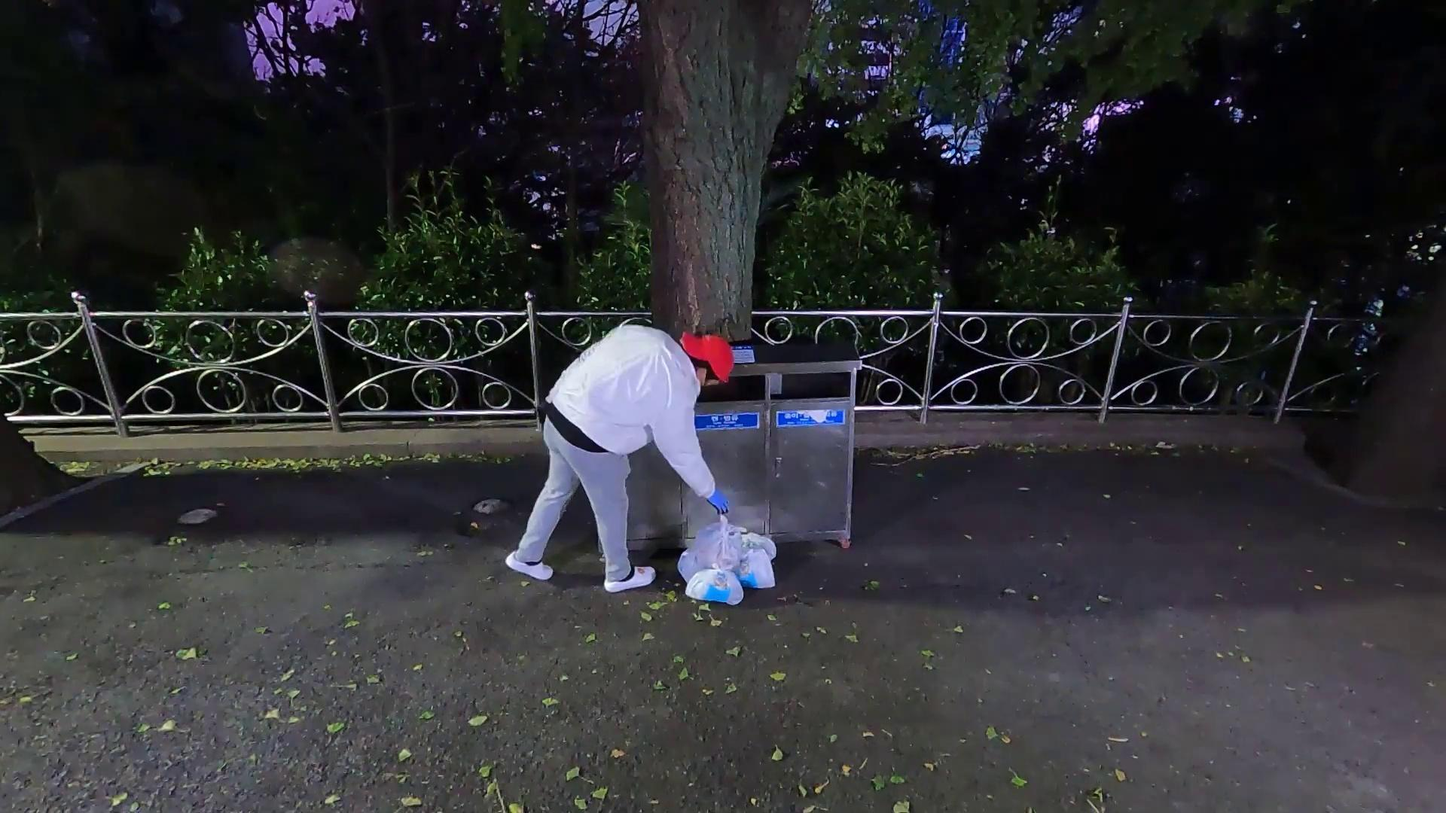person: (503, 321, 734, 599)
trash: (687, 504, 751, 573), (683, 559, 752, 610), (667, 539, 727, 597), (725, 549, 782, 585), (729, 526, 779, 563)
